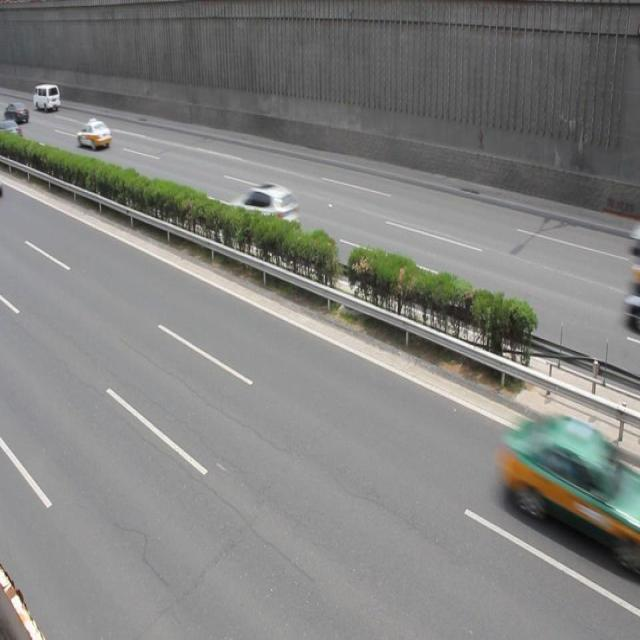car: (500, 417, 625, 555), (227, 184, 301, 248), (77, 119, 112, 150)
